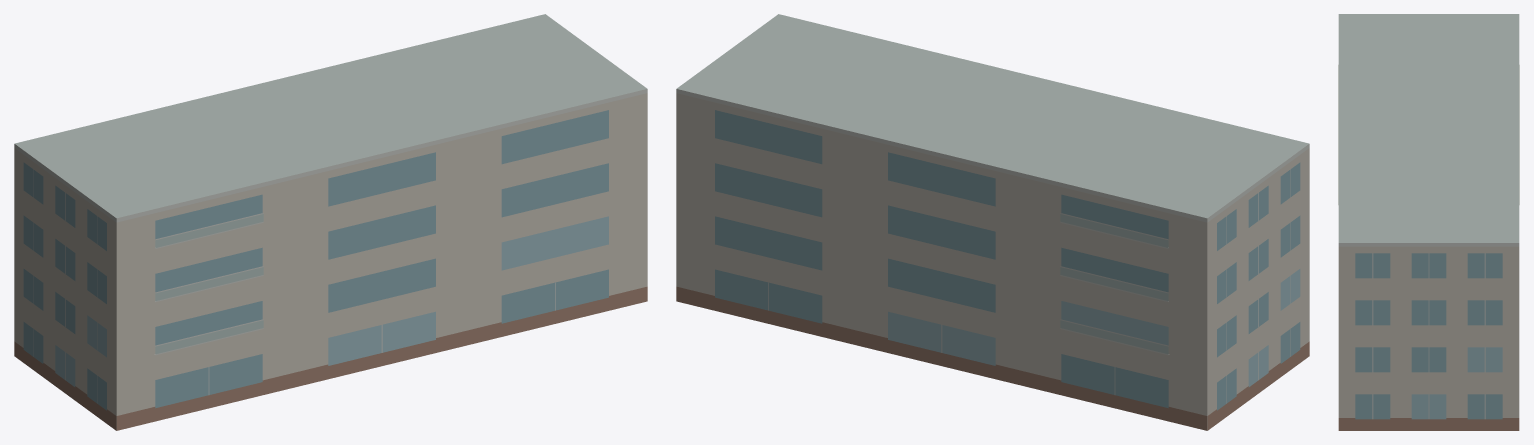
File: residential-820fa526-4427-4409-a633-2e9db395e1f9.glb
3 renders of one model, left to right at view 1: azimuth 30°, elevation 25°; view 2: azimuth 150°, elevation 25°; view 3: azimuth 270°, elevation 25°, orthographic. The views are drawn at different scales.
Visible parts, largest first — view 1: residential-820fa526-4427-4409-a633-2e9db395e1f9.tmp; view 2: residential-820fa526-4427-4409-a633-2e9db395e1f9.tmp; view 3: residential-820fa526-4427-4409-a633-2e9db395e1f9.tmp.
Part boxes in pixels (x1,y1,x2,y2): residential-820fa526-4427-4409-a633-2e9db395e1f9.tmp: (14,14,647,430); residential-820fa526-4427-4409-a633-2e9db395e1f9.tmp: (676,14,1309,430); residential-820fa526-4427-4409-a633-2e9db395e1f9.tmp: (1338,14,1519,430).
Bounding box in the file's own units: 31.92 × 12.2 × 10.71.
